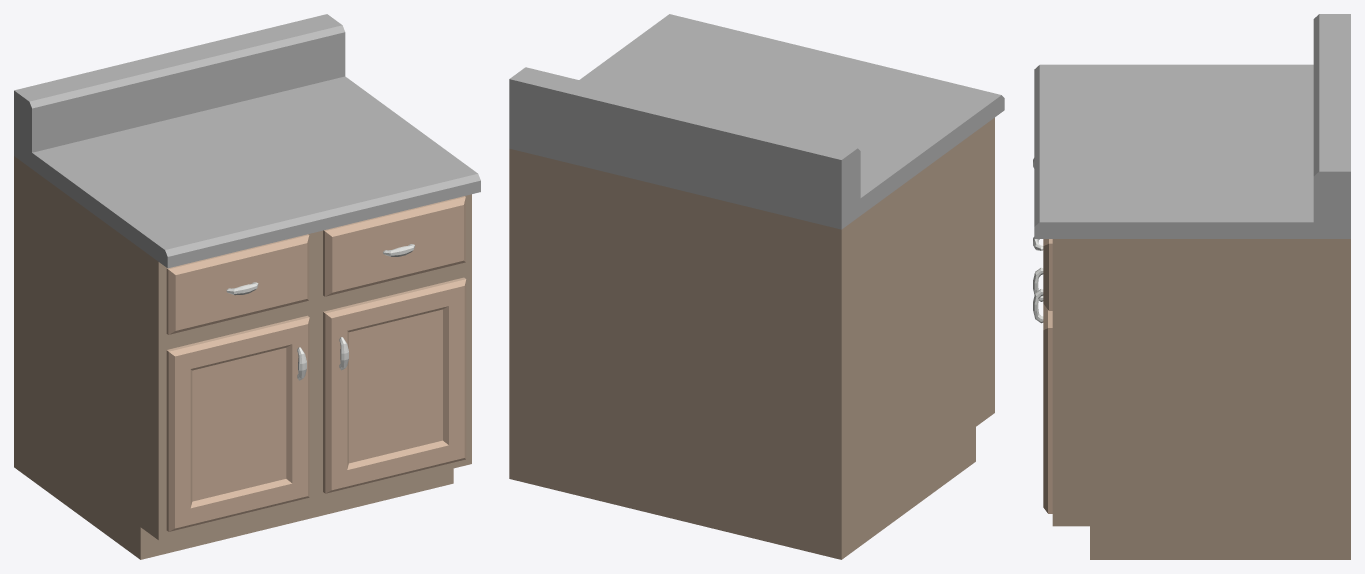
Rendered from Structure_Kitchen_Cabinet_Base_Full.glb.
The picture shows the model from 3 angles, left to right: view 1: azimuth 30°, elevation 25°; view 2: azimuth 150°, elevation 25°; view 3: azimuth 270°, elevation 25°; orthographic projection. The views are drawn at different scales.
Visible parts, largest first — view 1: Structure_Kitchen_Cabinet_Base_Full; view 2: Structure_Kitchen_Cabinet_Base_Full; view 3: Structure_Kitchen_Cabinet_Base_Full.
Part boxes in pixels (<box>): Structure_Kitchen_Cabinet_Base_Full: <box>14,14,480,559</box>; Structure_Kitchen_Cabinet_Base_Full: <box>509,14,1004,559</box>; Structure_Kitchen_Cabinet_Base_Full: <box>1033,14,1350,559</box>.
Size of the model in its own units: 1 by 1.15 by 0.8531.
